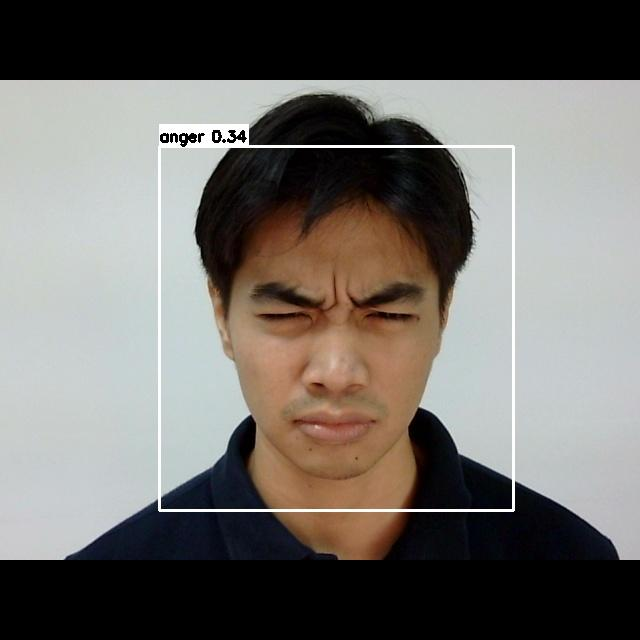Angry: (221, 228, 446, 462)
